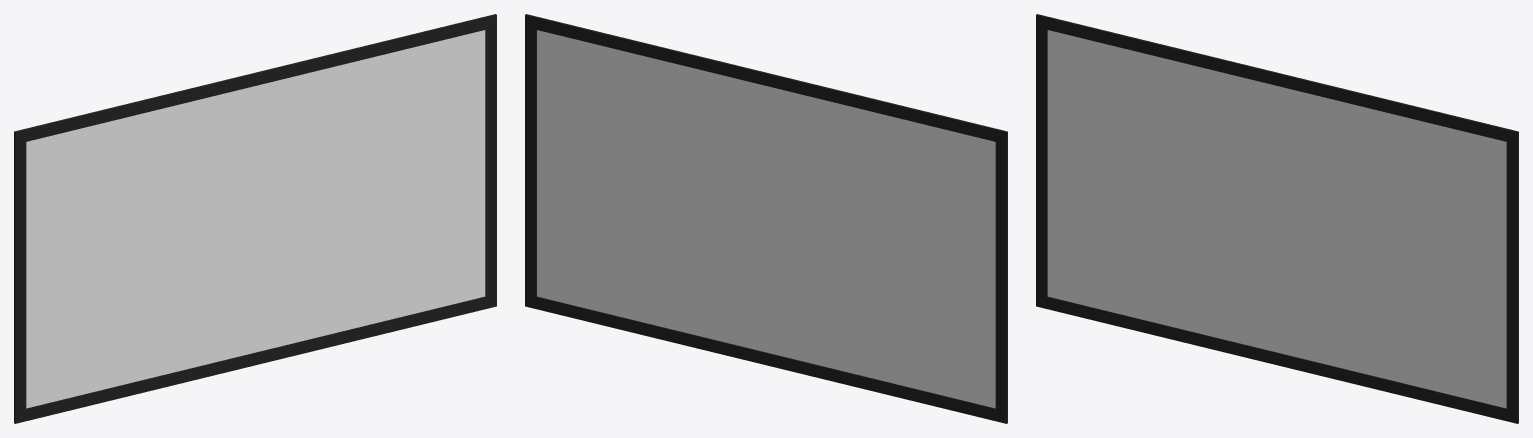
File: Screen03a.FBX
The picture shows the model from 3 angles, left to right: view 1: azimuth 30°, elevation 25°; view 2: azimuth 150°, elevation 25°; view 3: azimuth 330°, elevation 25°; orthographic projection.
Visible parts, largest first — view 1: Screen03aMovie, Screen03a; view 2: Screen03aMovie, Screen03a; view 3: Screen03aMovie, Screen03a.
Boxes of the visible parts, left/top/right/bottom form: Screen03aMovie: left=26, top=30, right=485, bottom=408; Screen03a: left=14, top=14, right=496, bottom=423; Screen03aMovie: left=537, top=30, right=995, bottom=408; Screen03a: left=525, top=14, right=1007, bottom=423; Screen03aMovie: left=1047, top=30, right=1506, bottom=408; Screen03a: left=1036, top=14, right=1518, bottom=423.
Bounding box in the file's own units: 531 × 307 × 2.14.
